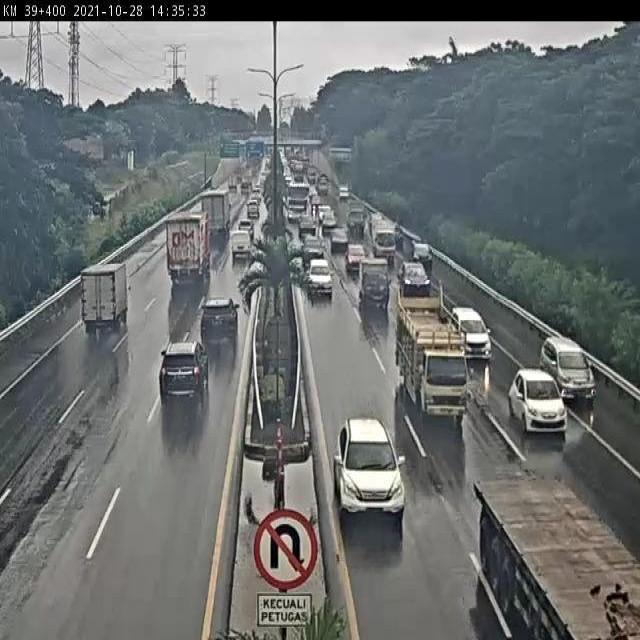big truck: (474, 481, 640, 640), (164, 209, 215, 283), (203, 190, 234, 238), (287, 182, 309, 218)
car: (333, 419, 406, 520), (498, 357, 553, 416), (157, 343, 211, 401), (527, 325, 574, 383), (447, 306, 489, 358), (198, 296, 244, 343), (305, 252, 335, 297), (357, 258, 386, 302), (393, 259, 425, 288), (411, 241, 435, 271), (229, 233, 252, 260), (345, 237, 363, 267), (302, 234, 322, 258), (234, 220, 255, 241), (243, 200, 260, 220), (296, 212, 312, 229), (332, 229, 345, 248), (321, 211, 334, 229), (316, 199, 327, 213)
small truck: (392, 292, 463, 413), (82, 264, 135, 333), (369, 220, 393, 255), (345, 203, 364, 232)
